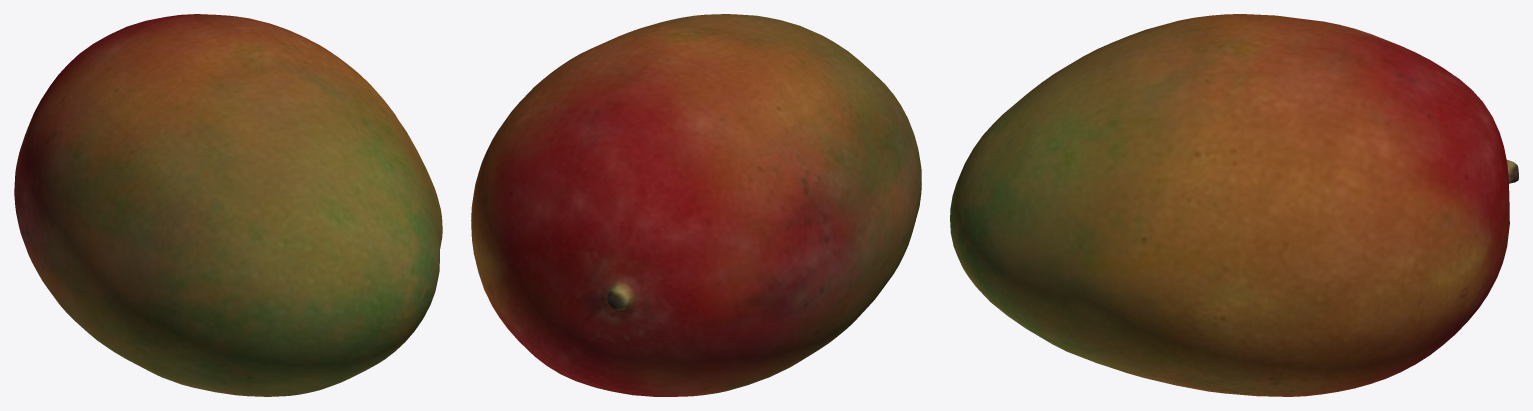
File: mango.glb
3 renders of one model, left to right at view 1: azimuth 30°, elevation 25°; view 2: azimuth 150°, elevation 25°; view 3: azimuth 270°, elevation 25°, orthographic. The views are drawn at different scales.
Parts seen in each view (by area): view 1: mango; view 2: mango; view 3: mango.
Boxes of the visible parts, x1,y1,x2,y2 form: mango: (14, 14, 442, 396); mango: (471, 14, 921, 396); mango: (950, 14, 1518, 396).
Size of the model in its own units: 0.1121 by 0.0987 by 0.1508.
Materials: 1 (1 with a texture image).
